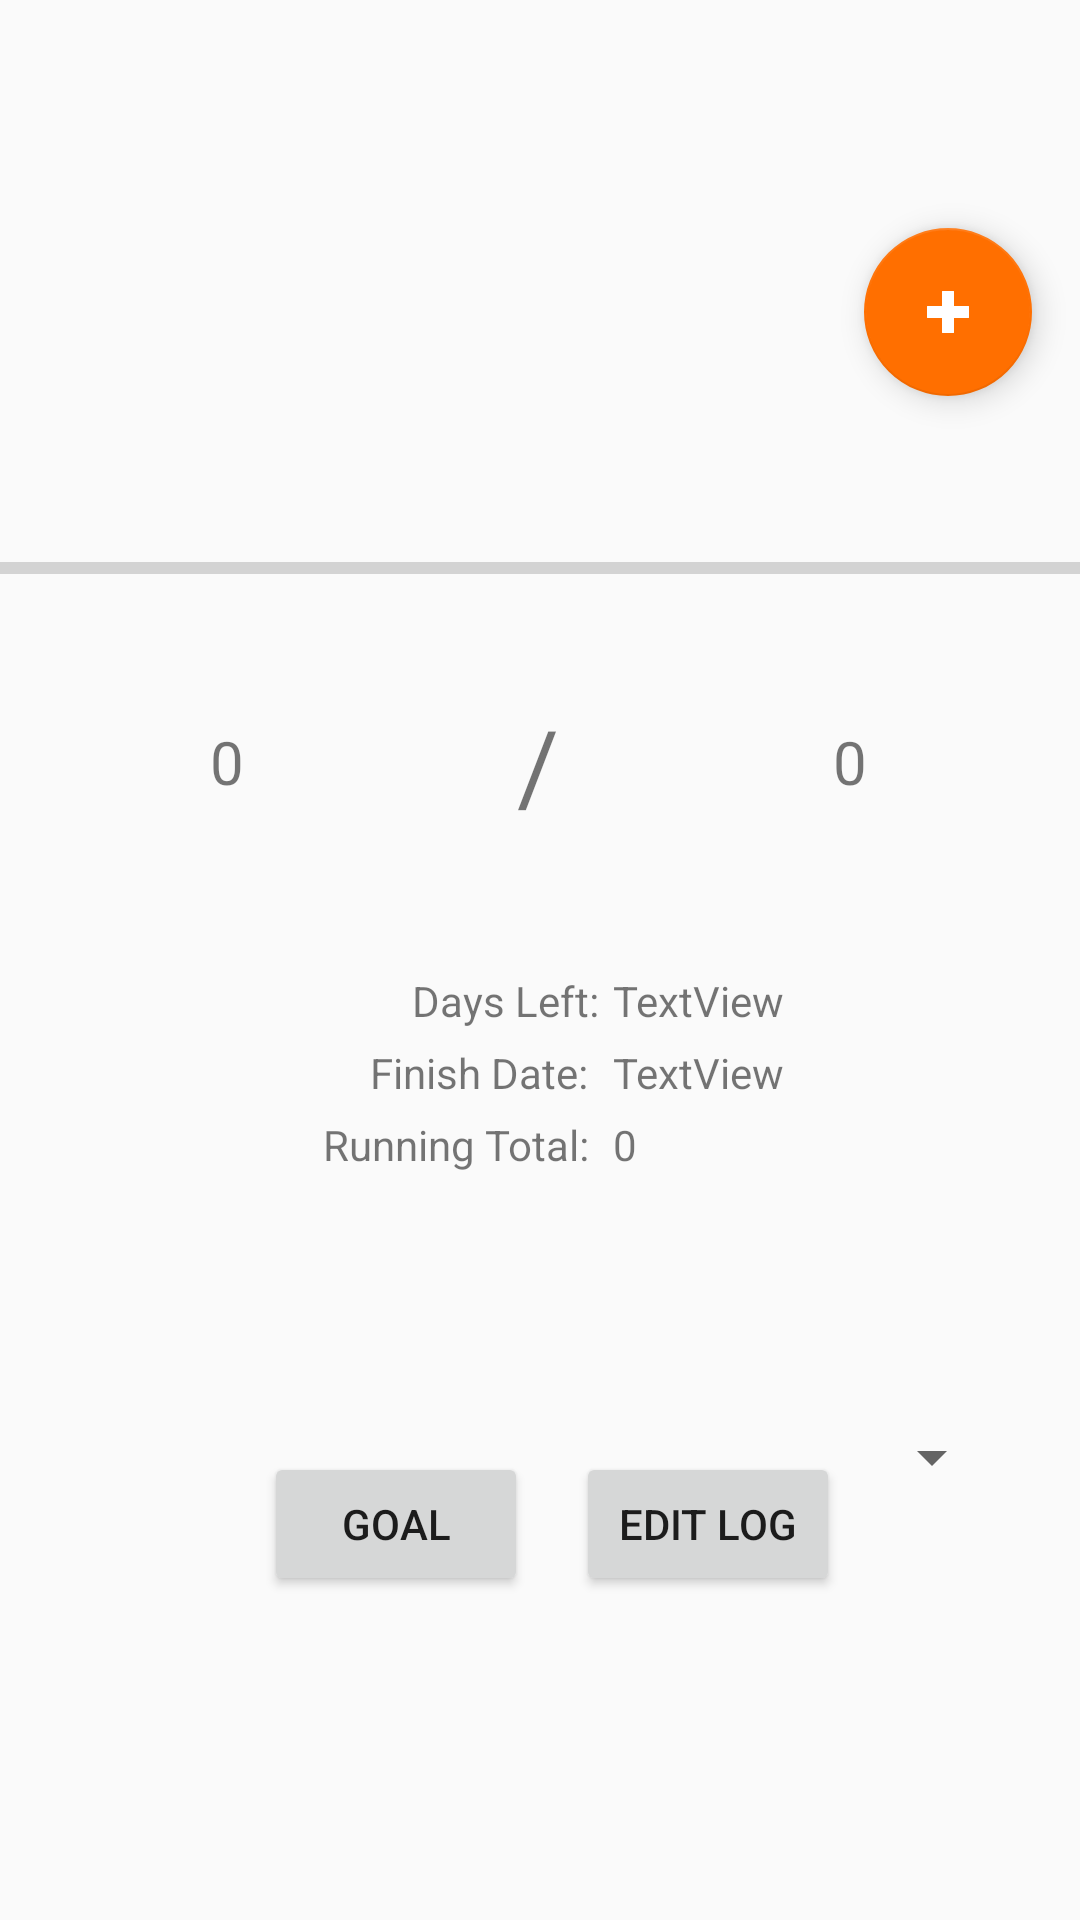

Screen size 1080px x 1920px. Icon name, then its center in pixels as (x,y):
plus: (948,312)
